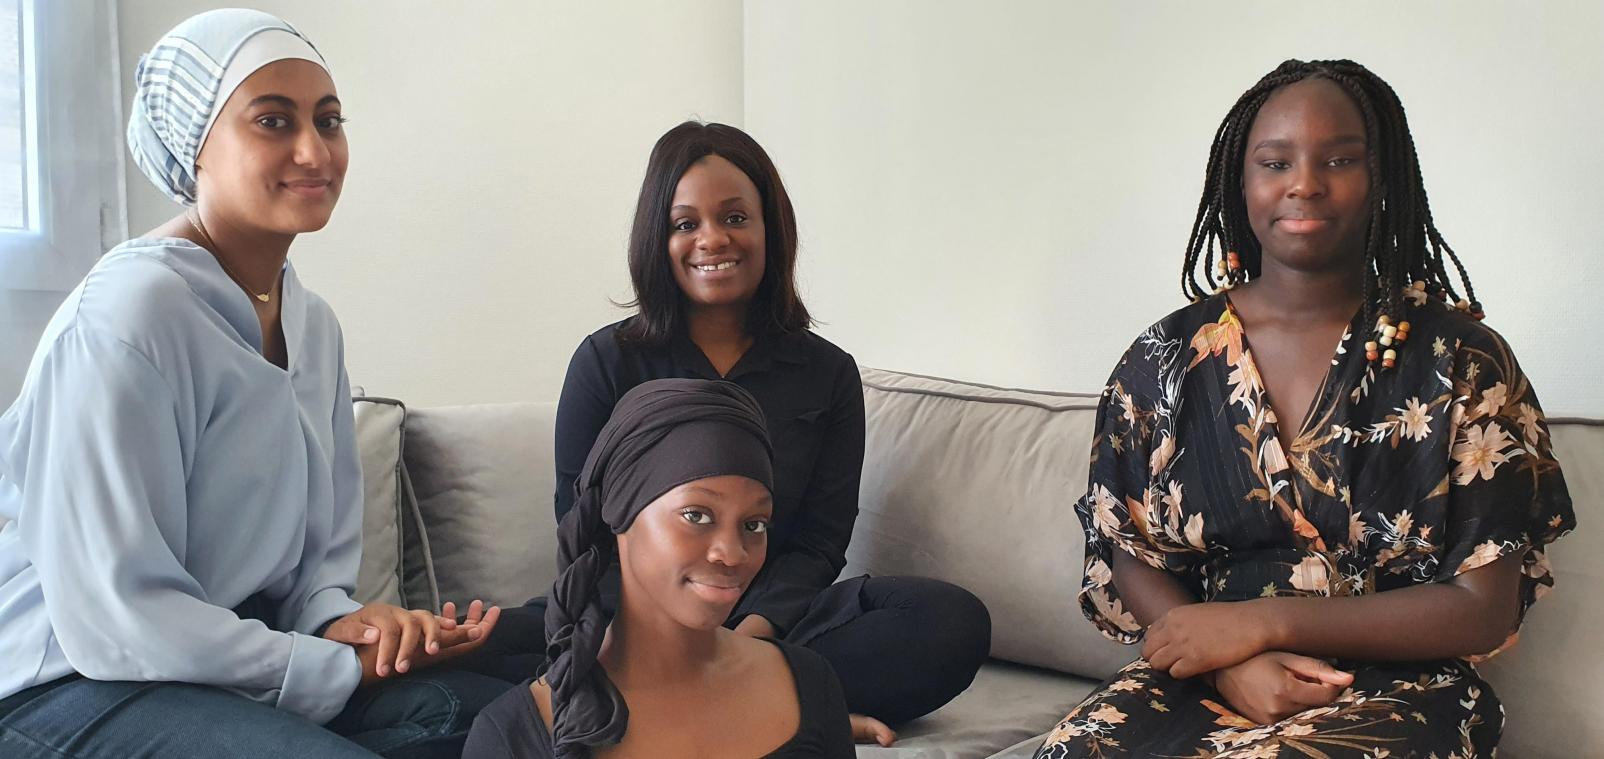without_mask: (653, 464, 774, 630), (227, 79, 349, 241), (1249, 111, 1362, 260), (662, 183, 764, 311)
